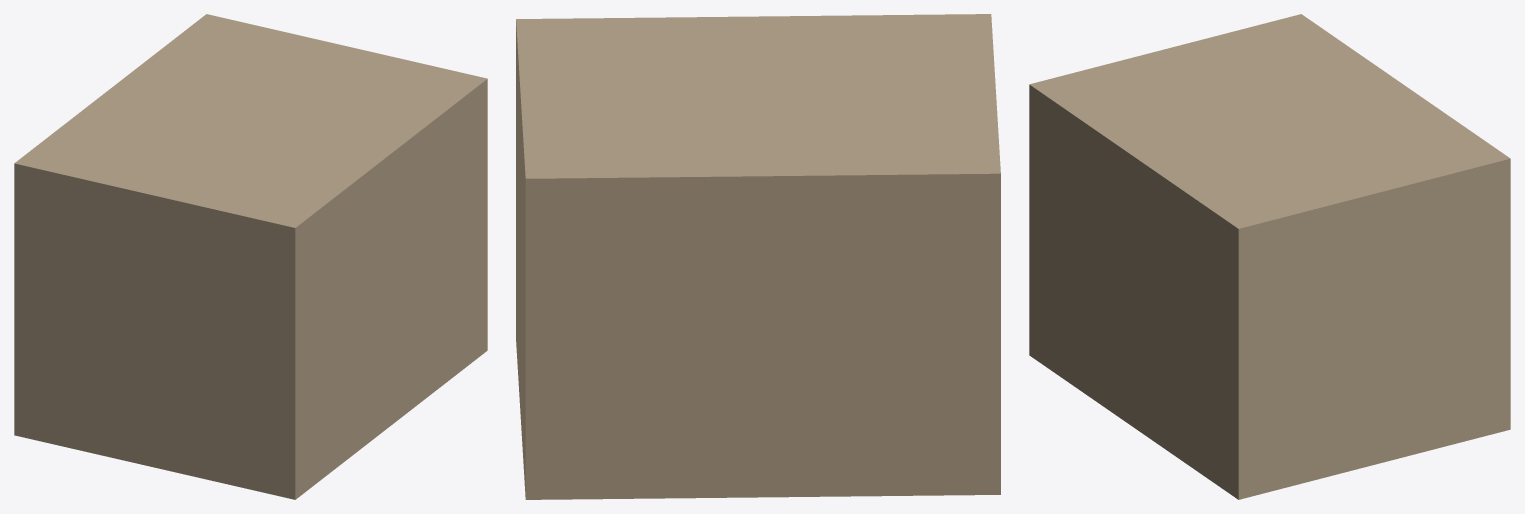
Rendered from bld_163484299.dae.
3 renders of one model, left to right at view 1: azimuth 30°, elevation 25°; view 2: azimuth 150°, elevation 25°; view 3: azimuth 270°, elevation 25°, orthographic. The views are drawn at different scales.
Visible parts, largest first — view 1: bld_163484299; view 2: bld_163484299; view 3: bld_163484299.
Boxes of the visible parts, x1=… form: bld_163484299: x1=14, y1=14, x2=487, y2=499; bld_163484299: x1=516, y1=14, x2=1000, y2=499; bld_163484299: x1=1029, y1=14, x2=1510, y2=499.
Size of the model in its own units: 13.61 by 12.88 by 8.
